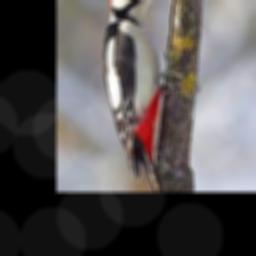Woodpecker: (102, 0, 178, 192)
